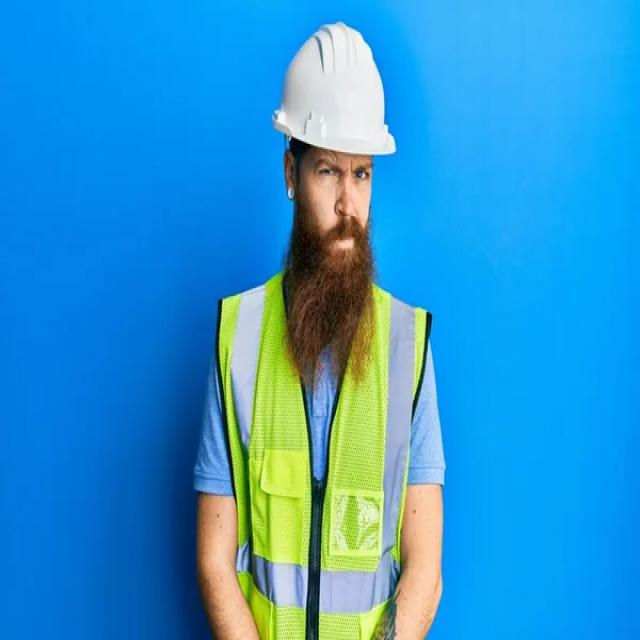Reflective-Jacket: (210, 272, 440, 638)
Safety-Helmet: (271, 16, 397, 160)
